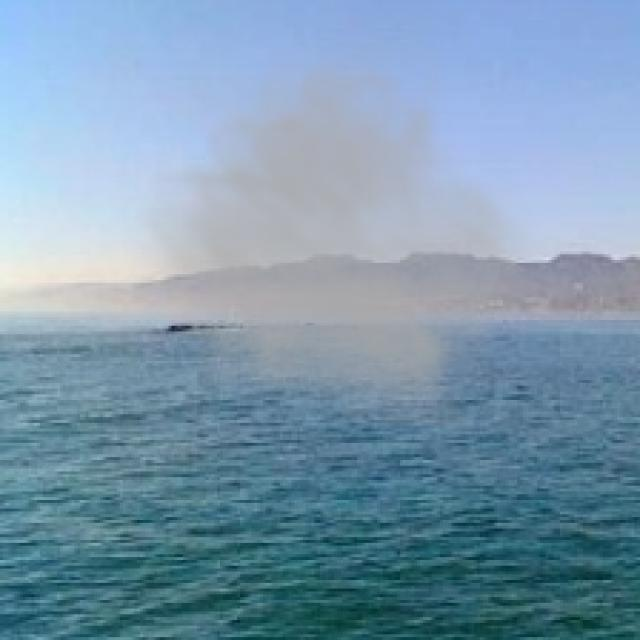smoke: (123, 17, 548, 426)
